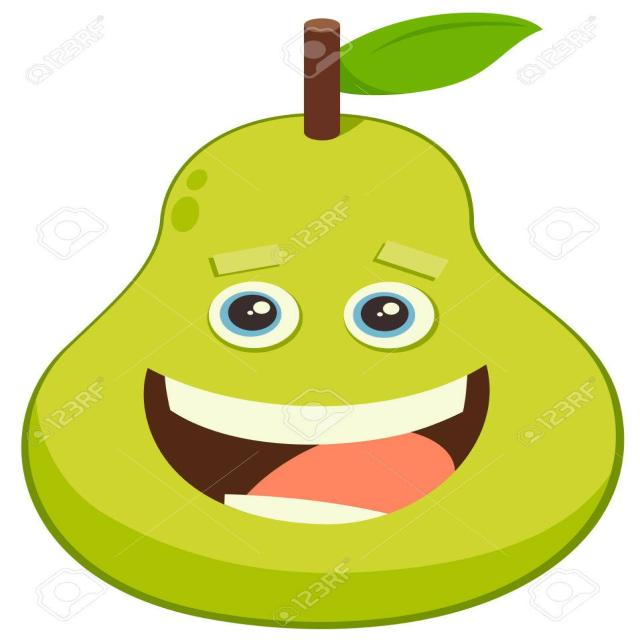pera: (14, 17, 640, 627)
